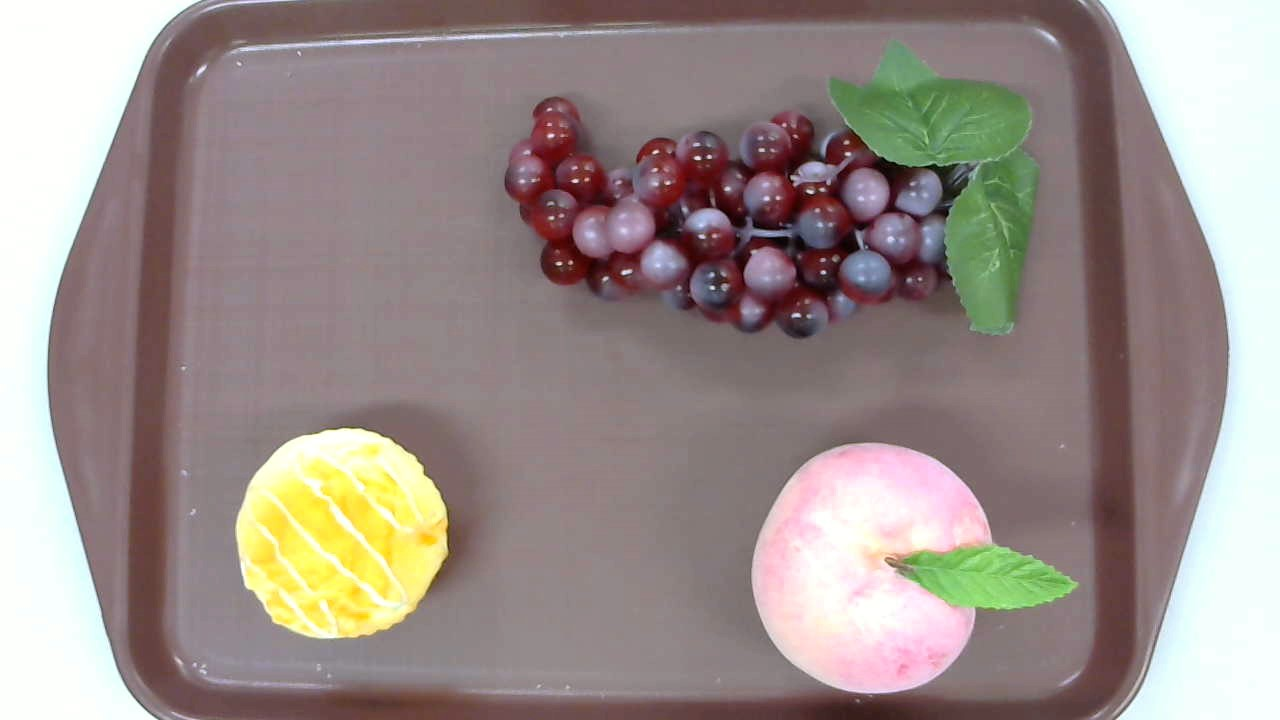cupcake: (235, 427, 448, 641)
grape: (504, 36, 1041, 343)
peach: (751, 441, 1077, 695)
